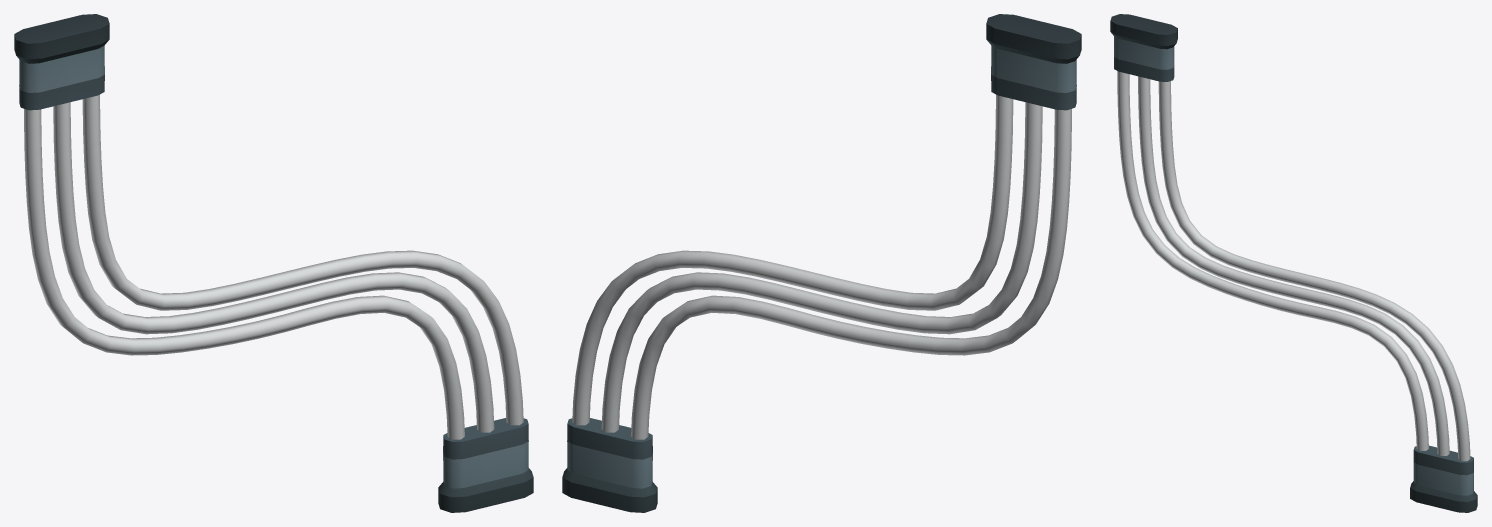
Rendered from Cable_type_C_002.glb.
3 views of the same model, side by side, from view 1: azimuth 30°, elevation 25°; view 2: azimuth 150°, elevation 25°; view 3: azimuth 330°, elevation 25° (orthographic). The views are drawn at different scales.
Parts seen in each view (by area): view 1: Cable_type_C_002; view 2: Cable_type_C_002; view 3: Cable_type_C_002.
Boxes of the visible parts, box(x1,y1,x2,y2) form: Cable_type_C_002: box(14, 14, 533, 512); Cable_type_C_002: box(562, 14, 1081, 512); Cable_type_C_002: box(1110, 14, 1477, 512).
Bounding box in the file's own units: 1.23 × 1.31 × 0.0783.
1 material, 1 textured.
